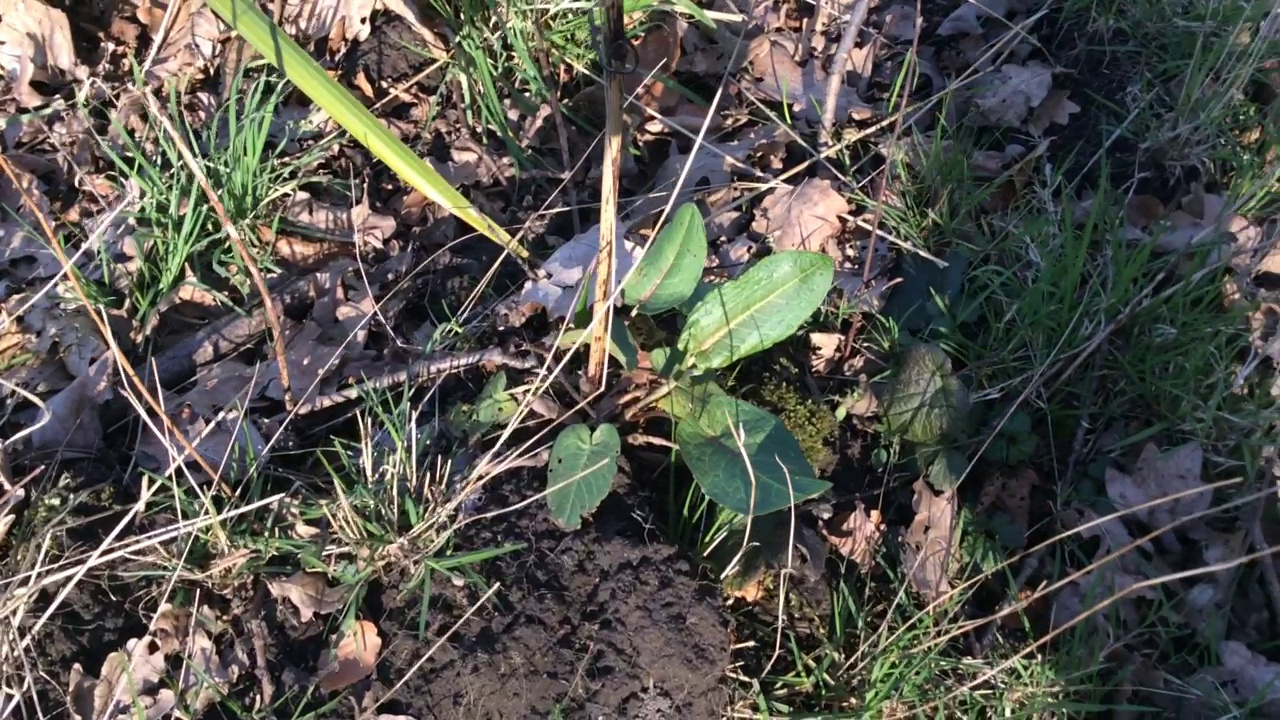rumex: (472, 204, 836, 529)
